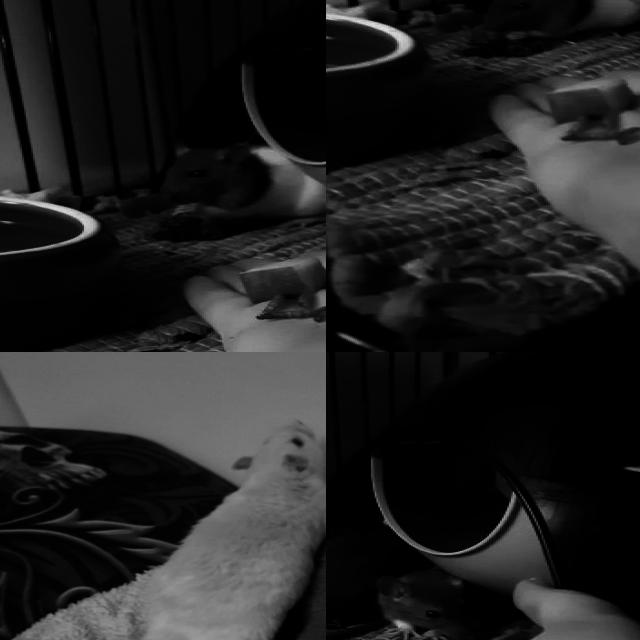rat: (141, 421, 326, 640), (153, 146, 326, 236), (326, 522, 442, 623), (370, 565, 485, 640), (488, 0, 640, 42)
